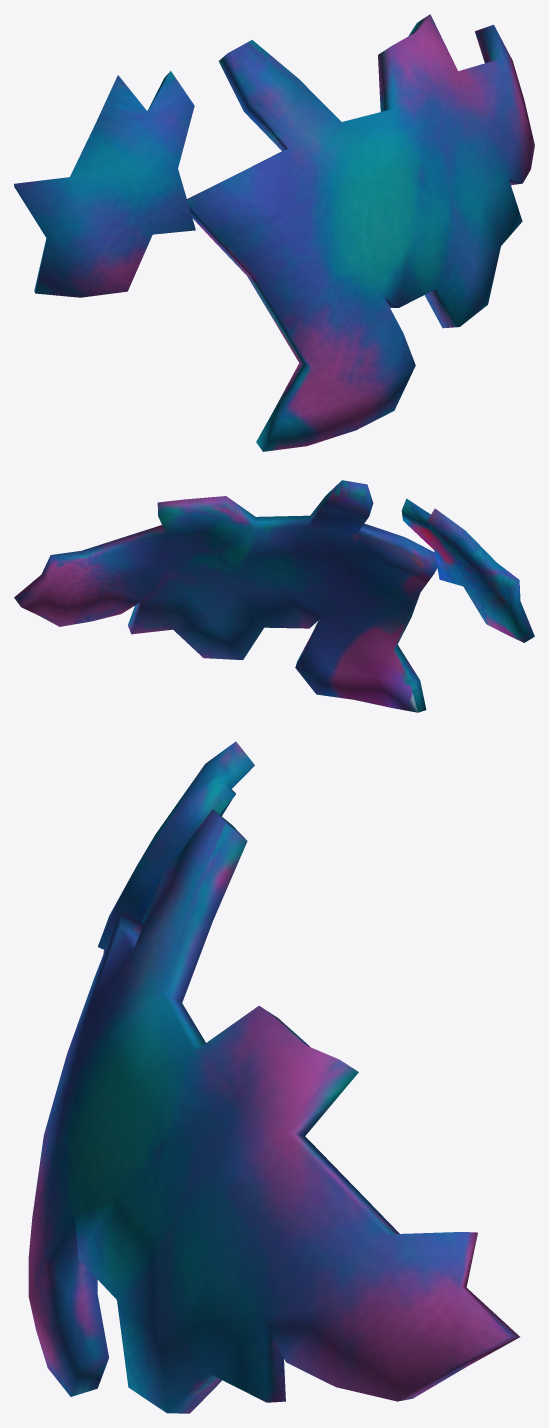
The model's file is cascaron.fbx.
The picture shows the model from 3 angles, top to bottom: view 1: azimuth 30°, elevation 25°; view 2: azimuth 150°, elevation 25°; view 3: azimuth 270°, elevation 25°; orthographic projection. The views are drawn at different scales.
Visible parts, largest first — view 1: tripo_part_1, tripo_part_0; view 2: tripo_part_1, tripo_part_0; view 3: tripo_part_1, tripo_part_0.
Part boxes in pixels (x1,y1,x2,y2): tripo_part_1: (187, 14, 534, 451); tripo_part_0: (14, 71, 195, 297); tripo_part_1: (14, 480, 437, 712); tripo_part_0: (401, 498, 534, 642); tripo_part_1: (28, 809, 519, 1413); tripo_part_0: (98, 741, 254, 953).
Size of the model in its own units: 0.45 by 0.2545 by 0.2215.
